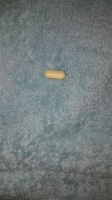Aferin: (44, 69, 67, 79)
